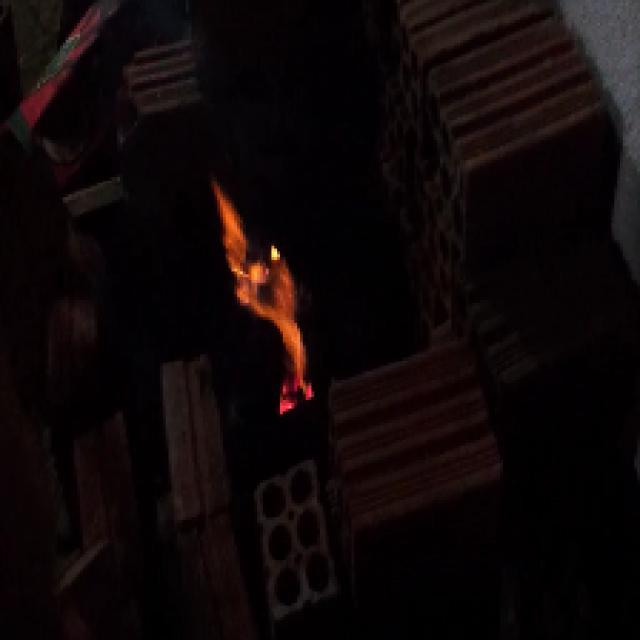Fire: (210, 200, 317, 384)
